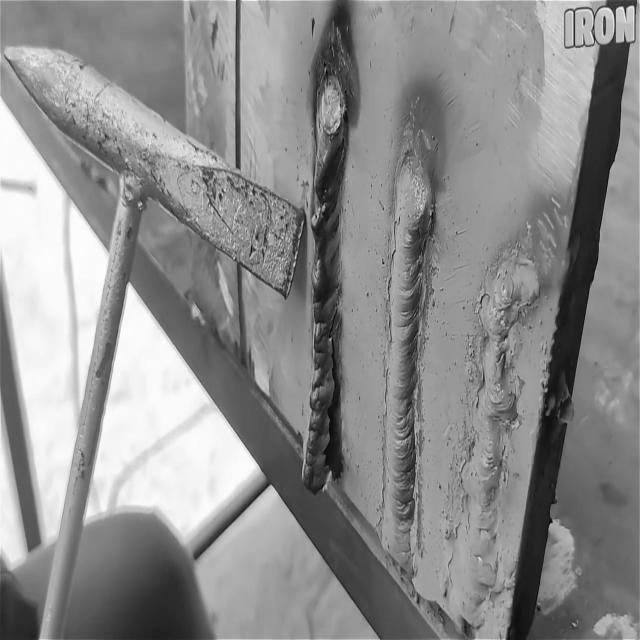Bad Welding: (448, 253, 541, 622), (298, 15, 350, 494)
Crack: (316, 288, 342, 478)
Good Welding: (382, 140, 428, 584)
